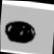correct: (3, 17, 37, 47)
